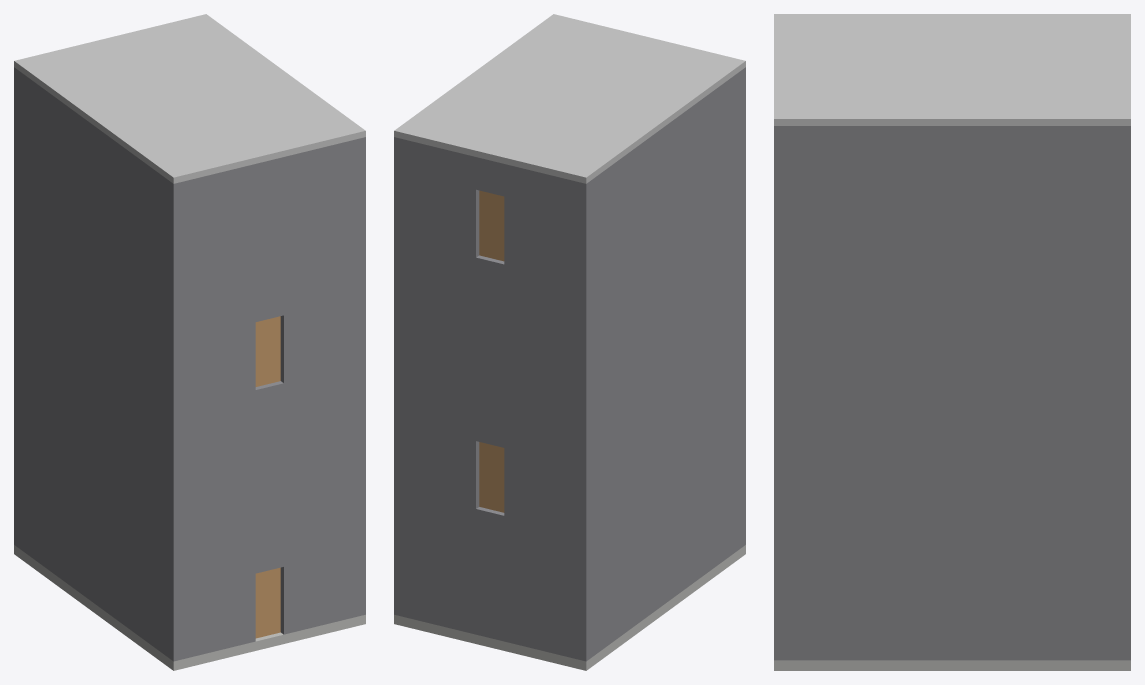
Rendered from escalators.glb.
3 renders of one model, left to right at view 1: azimuth 30°, elevation 25°; view 2: azimuth 150°, elevation 25°; view 3: azimuth 270°, elevation 25°, orthographic. The views are drawn at different scales.
Parts seen in each view (by area): view 1: Escalators_Wall_W_1, Escalators_Wall_S_1, Escalators_Wall_S_4, Escalators_Ceiling, Escalators_Wall_S_2, Escalators_Wall_S_3, Escalators_Floor, Escalators_Wall_N_1, DoorLeaf_atrium_L0, DoorLeaf_atrium_L8; view 2: Escalators_Wall_W_1, Escalators_Wall_N_1, Escalators_Wall_N_5, Escalators_Ceiling, Escalators_Wall_N_3, Escalators_Wall_N_2, Escalators_Floor, Escalators_Wall_S_1, DoorLeaf_atrium_L4, DoorLeaf_atrium_L12, Escalators_Wall_N_4; view 3: Escalators_Wall_E_1, Escalators_Ceiling, Escalators_Wall_N_5, Escalators_Wall_S_4, Escalators_Floor.
Part boxes in pixels (x1,y1,x2,y2): Escalators_Wall_W_1: (17, 70, 170, 658); Escalators_Wall_S_1: (170, 164, 255, 661); Escalators_Wall_S_4: (280, 137, 365, 634); Escalators_Ceiling: (14, 14, 365, 183); Escalators_Wall_S_2: (255, 381, 283, 573); Escalators_Wall_S_3: (255, 157, 283, 321); Escalators_Floor: (14, 545, 365, 670); Escalators_Wall_N_1: (14, 67, 17, 546); DoorLeaf_atrium_L0: (255, 567, 280, 638); DoorLeaf_atrium_L8: (255, 316, 280, 386); Escalators_Wall_W_1: (589, 70, 742, 658); Escalators_Wall_N_1: (504, 164, 589, 661); Escalators_Wall_N_5: (394, 137, 479, 634); Escalators_Ceiling: (394, 14, 745, 183); Escalators_Wall_N_3: (476, 255, 504, 447); Escalators_Wall_N_2: (476, 507, 504, 641); Escalators_Floor: (394, 545, 745, 670); Escalators_Wall_S_1: (742, 67, 745, 546); DoorLeaf_atrium_L4: (479, 442, 504, 512); DoorLeaf_atrium_L12: (479, 190, 504, 261); Escalators_Wall_N_4: (476, 157, 504, 196); Escalators_Wall_E_1: (781, 126, 1123, 660); Escalators_Ceiling: (774, 14, 1130, 125); Escalators_Wall_N_5: (1123, 126, 1130, 660); Escalators_Wall_S_4: (774, 126, 781, 660); Escalators_Floor: (774, 660, 1130, 670).
Bounding box in the file's own units: 6.4 × 15.7 × 9.2.
